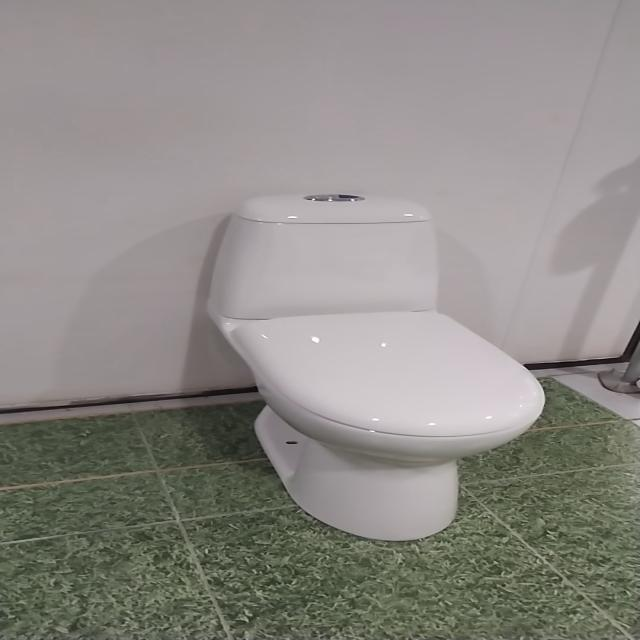toilet: (204, 193, 546, 542)
